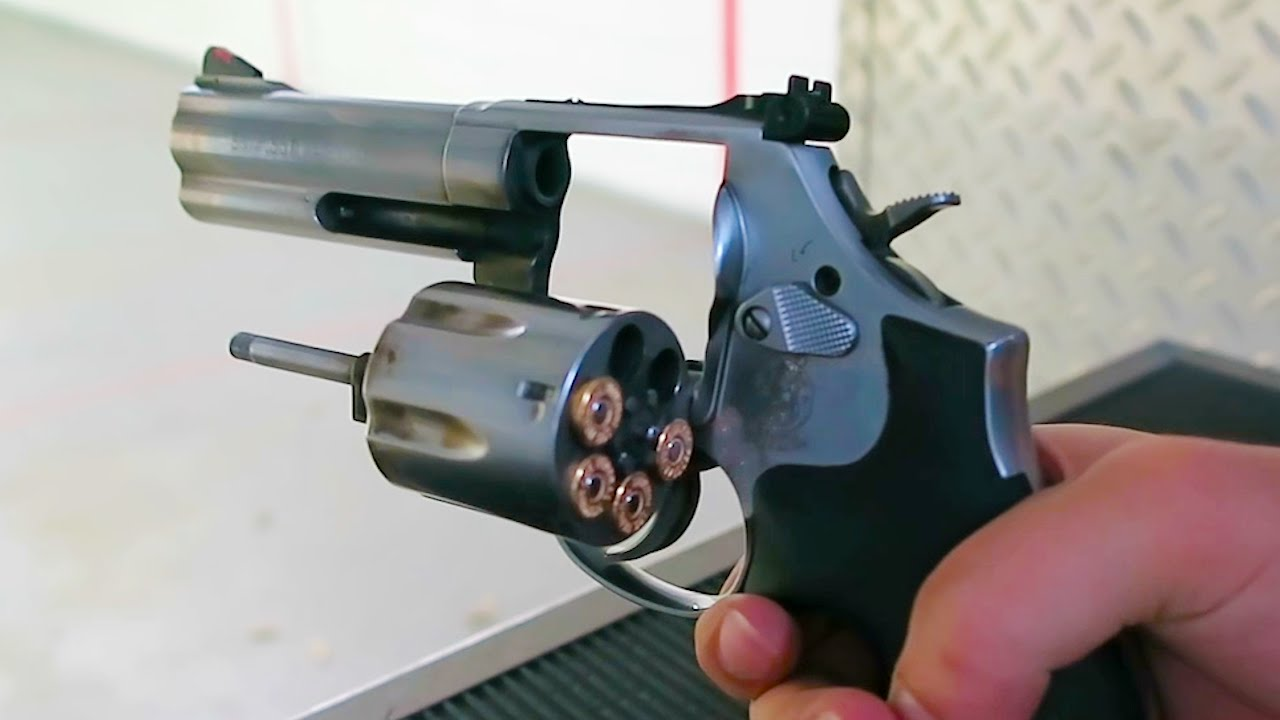Gun: (170, 121, 909, 445)
